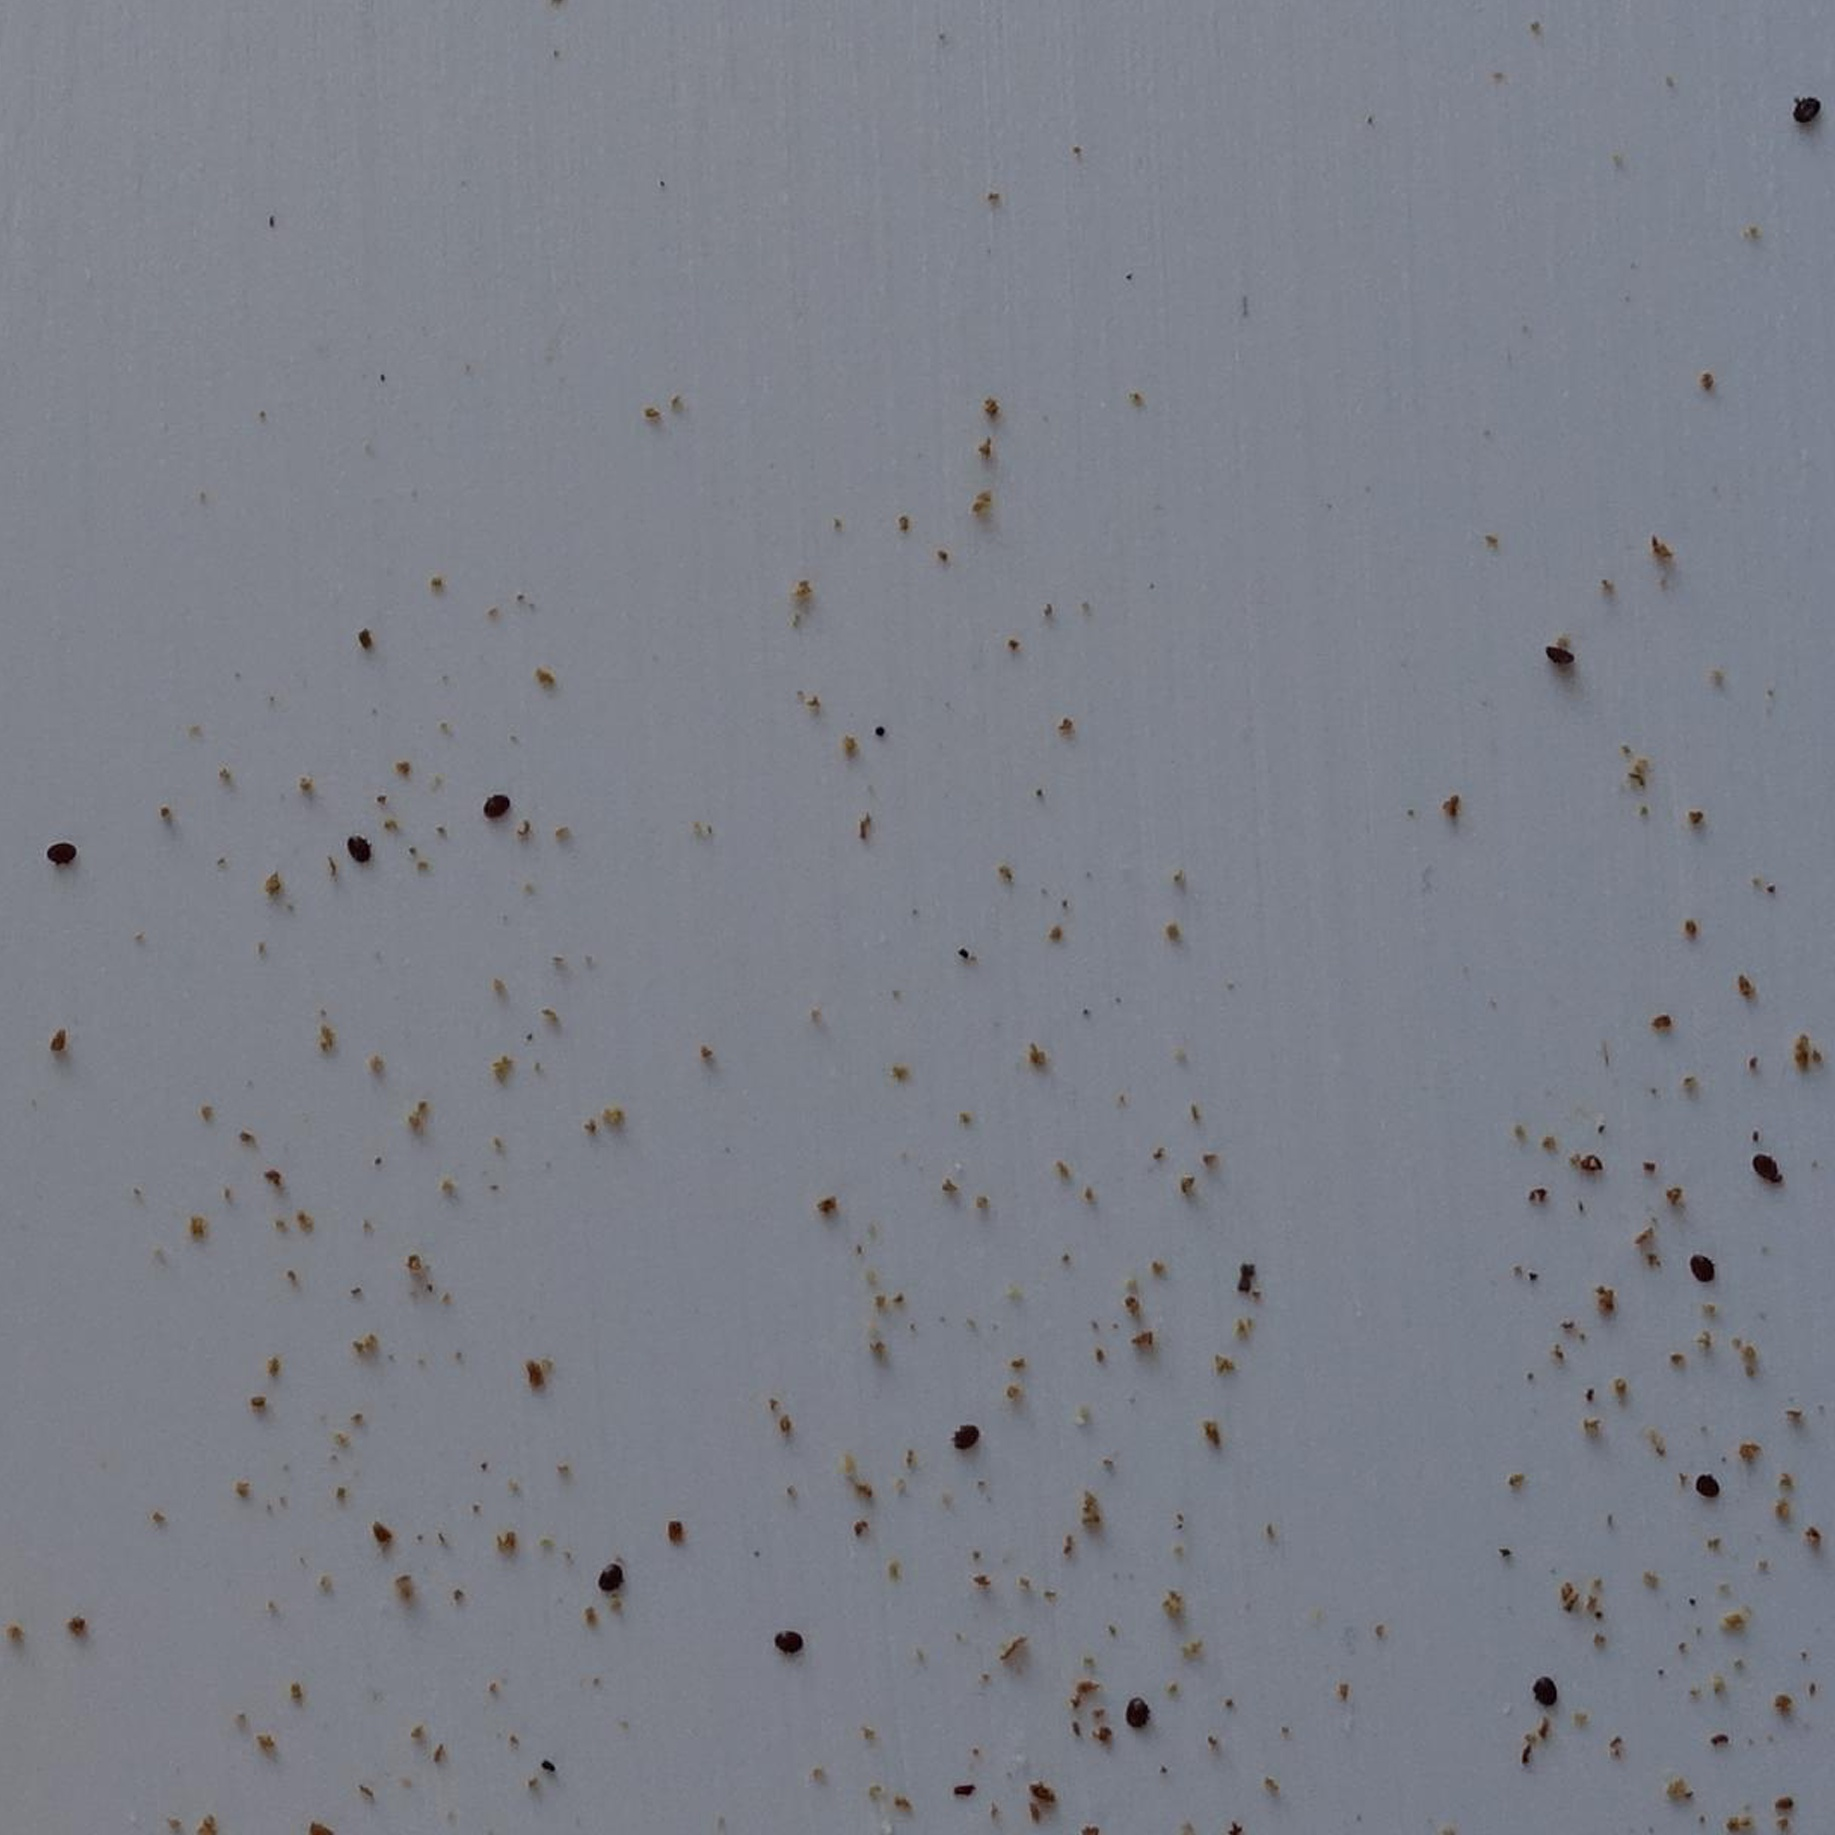Varroa: (1539, 632, 1581, 676), (953, 1418, 981, 1449), (49, 833, 76, 862), (595, 1564, 622, 1593), (343, 839, 371, 865), (481, 791, 507, 818), (776, 1625, 803, 1652), (1534, 1679, 1561, 1706), (1124, 1699, 1149, 1726), (1690, 1472, 1716, 1497), (1692, 1254, 1716, 1279), (1754, 1154, 1778, 1180), (1793, 94, 1817, 118)
